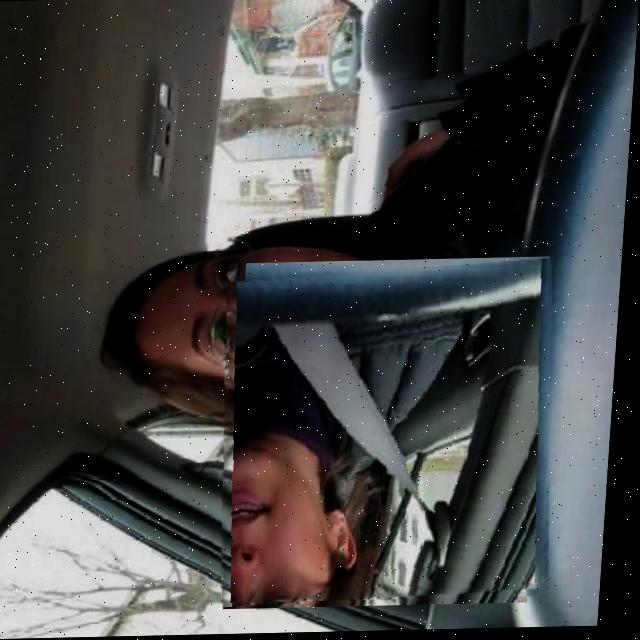seatbelt: (218, 264, 569, 604)
